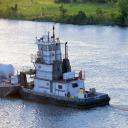tugboat: (17, 32, 113, 111)
